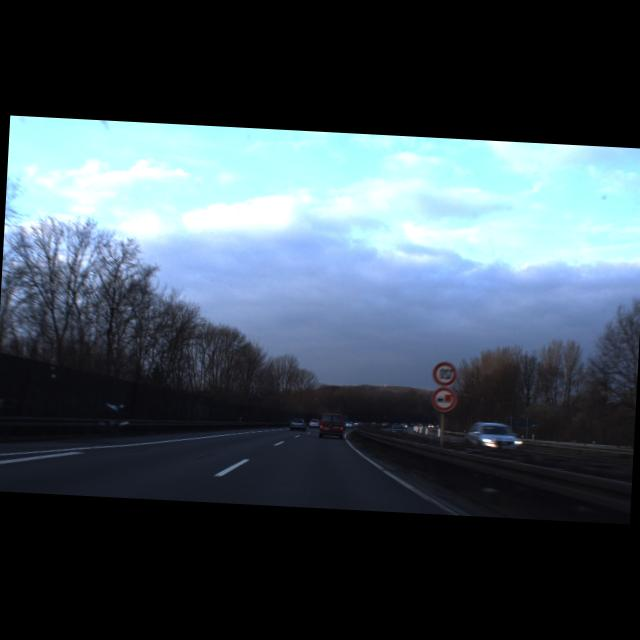prohibitory: (432, 387, 458, 412), (433, 362, 458, 387)
